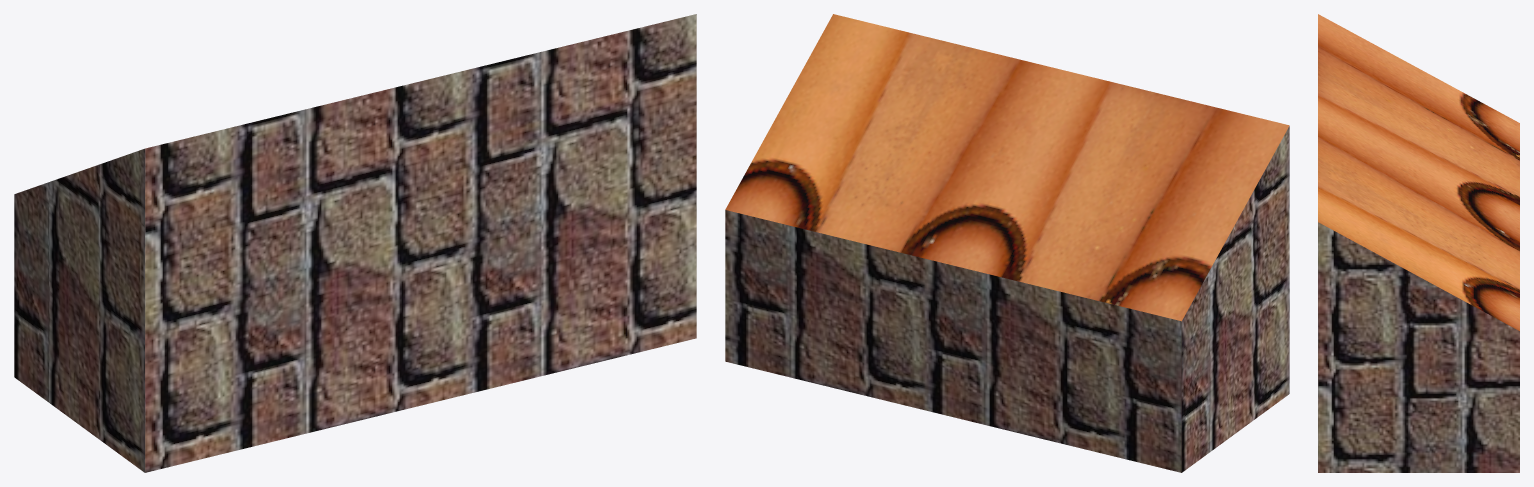
The model's file is garage.fbx.
3 views of the same model, side by side, from view 1: azimuth 30°, elevation 25°; view 2: azimuth 150°, elevation 25°; view 3: azimuth 270°, elevation 25° (orthographic). The views are drawn at different scales.
Visible parts, largest first — view 1: garage; view 2: garage.001, garage; view 3: garage.001, garage.
Boxes of the visible parts, x1,y1,x2,y2 form: garage: (14, 14, 696, 472); garage.001: (725, 14, 1289, 321); garage: (725, 126, 1289, 472); garage.001: (1318, 14, 1519, 330); garage: (1318, 222, 1519, 472).
Size of the model in its own units: 2305 by 1295 by 945.
